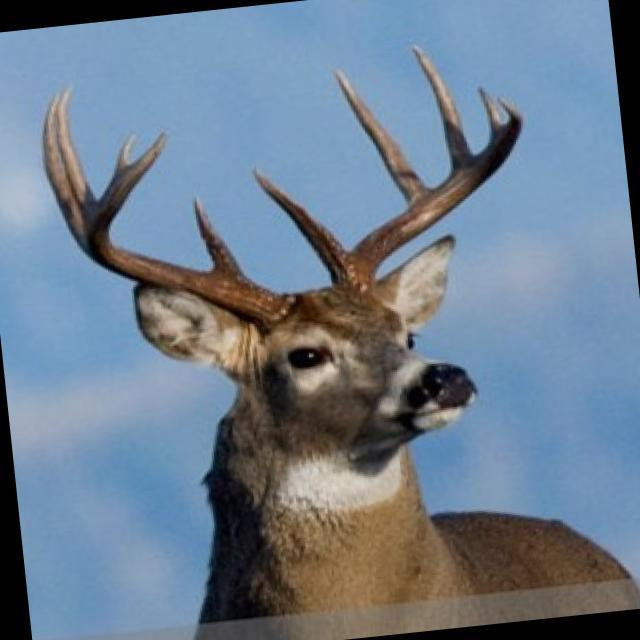E1: (115, 133, 136, 174)
L-F: (330, 95, 525, 291)
L-G1: (250, 165, 349, 274)
L-G2: (331, 68, 431, 206)
L-G3: (409, 43, 471, 169)
L-G4: (476, 86, 502, 139)
R-F: (83, 130, 299, 337)
R-G1: (192, 197, 243, 275)
R-G2: (39, 95, 85, 251)
R-G3: (54, 86, 96, 216)
